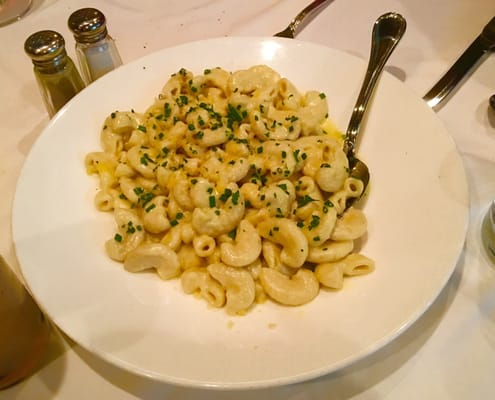sandwich: (421, 15, 495, 113)
sushi: (10, 22, 463, 391)
